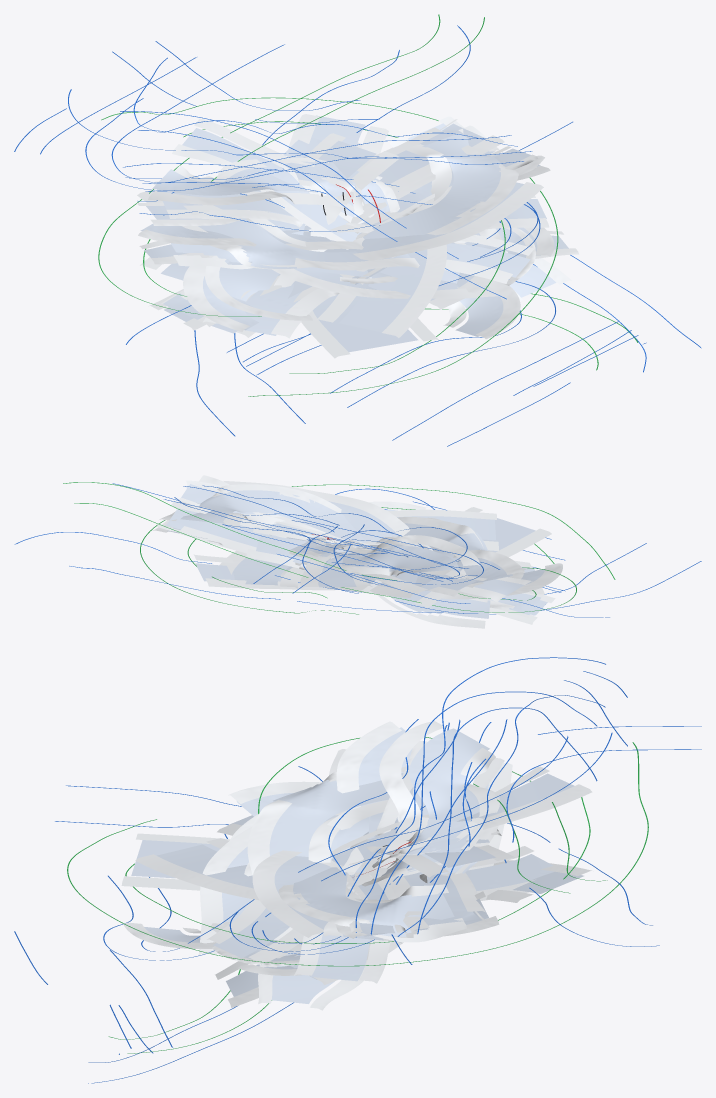
The model's file is SV_Pistes.fbx.
3 views of the same model, one above another, from view 1: azimuth 30°, elevation 25°; view 2: azimuth 150°, elevation 25°; view 3: azimuth 270°, elevation 25° (orthographic). The views are drawn at different scales.
Parts seen in each view (by area): view 1: SV_RIB_G1_00_PisteGroomed, SV_RIB_MAIN_00_PisteGroomed, SV_RIB_MAIN_01_PisteGroomed, SV_RIB_MAIN_01_Powder, SV_RIB_MAIN_00_Powder, SV_RIB_G1_01_Powder, SV_RIB_G2_01_PisteGroomed, SV_RIB_MAIN_12_PisteGroomed, SV_RIB_G1_00_Powder, SV_RIB_MAIN_12_Powder, SV_RIB_MAIN_14_PisteGroomed, SV_RIB_G2_02_Powder (+32 smaller); view 2: SV_RIB_G1_00_PisteGroomed, SV_RIB_G2_02_PisteGroomed, SV_RIB_G2_02_Powder, SV_RIB_MAIN_12_PisteGroomed, SV_RIB_G2_01_PisteGroomed, SV_RIB_MAIN_12_Powder, SV_RIB_G1_00_Powder, SV_RIB_MAIN_14_Powder, SV_RIB_G2_01_Powder, SV_RIB_MAIN_00_PisteGroomed, SV_RIB_MAIN_14_PisteGroomed, SV_RIB_MAIN_03_Powder (+36 smaller); view 3: SV_RIB_MAIN_00_PisteGroomed, SV_RIB_MAIN_12_PisteGroomed, SV_RIB_MAIN_12_Powder, SV_RIB_G1_00_PisteGroomed, SV_RIB_MAIN_00_Powder, SV_RIB_MAIN_04_Powder, SV_RIB_G2_01_PisteGroomed, SV_RIB_MAIN_01_Powder, SV_RIB_MAIN_04_PisteGroomed, SV_RIB_G1_01_Powder, SV_RIB_MAIN_01_PisteGroomed, SV_RIB_G1_00_Powder (+28 smaller).
Boxes of the visible parts, x1=… form: SV_RIB_G1_00_PisteGroomed: x1=212, y1=133, x2=501, y2=333; SV_RIB_MAIN_00_PisteGroomed: x1=198, y1=218, x2=530, y2=277; SV_RIB_MAIN_01_PisteGroomed: x1=182, y1=128, x2=503, y2=336; SV_RIB_MAIN_01_Powder: x1=172, y1=118, x2=520, y2=339; SV_RIB_MAIN_00_Powder: x1=137, y1=176, x2=535, y2=283; SV_RIB_G1_01_Powder: x1=272, y1=133, x2=500, y2=298; SV_RIB_G2_01_PisteGroomed: x1=283, y1=137, x2=427, y2=332; SV_RIB_MAIN_12_PisteGroomed: x1=152, y1=167, x2=556, y2=297; SV_RIB_G1_00_Powder: x1=236, y1=125, x2=518, y2=337; SV_RIB_MAIN_12_Powder: x1=148, y1=159, x2=571, y2=301; SV_RIB_MAIN_14_PisteGroomed: x1=311, y1=115, x2=418, y2=352; SV_RIB_G2_02_Powder: x1=140, y1=182, x2=543, y2=269; SV_RIB_G1_00_PisteGroomed: x1=180, y1=490, x2=366, y2=542; SV_RIB_G2_02_PisteGroomed: x1=328, y1=501, x2=490, y2=618; SV_RIB_G2_02_Powder: x1=223, y1=481, x2=487, y2=628; SV_RIB_MAIN_12_PisteGroomed: x1=325, y1=546, x2=459, y2=572; SV_RIB_G2_01_PisteGroomed: x1=233, y1=516, x2=495, y2=585; SV_RIB_MAIN_12_Powder: x1=295, y1=535, x2=480, y2=576; SV_RIB_G1_00_Powder: x1=159, y1=484, x2=343, y2=543; SV_RIB_MAIN_14_Powder: x1=193, y1=507, x2=551, y2=590; SV_RIB_G2_01_Powder: x1=219, y1=509, x2=498, y2=588; SV_RIB_MAIN_00_PisteGroomed: x1=389, y1=523, x2=487, y2=602; SV_RIB_MAIN_14_PisteGroomed: x1=195, y1=518, x2=535, y2=581; SV_RIB_MAIN_03_Powder: x1=157, y1=502, x2=562, y2=599; SV_RIB_MAIN_00_PisteGroomed: x1=213, y1=773, x2=413, y2=957; SV_RIB_MAIN_12_PisteGroomed: x1=226, y1=728, x2=489, y2=996; SV_RIB_MAIN_12_Powder: x1=215, y1=721, x2=500, y2=1007; SV_RIB_G1_00_PisteGroomed: x1=293, y1=867, x2=454, y2=936; SV_RIB_MAIN_00_Powder: x1=207, y1=766, x2=406, y2=964; SV_RIB_MAIN_04_Powder: x1=258, y1=721, x2=401, y2=1010; SV_RIB_G2_01_PisteGroomed: x1=157, y1=844, x2=554, y2=891; SV_RIB_MAIN_01_Powder: x1=123, y1=766, x2=592, y2=949; SV_RIB_MAIN_04_PisteGroomed: x1=271, y1=727, x2=412, y2=1003; SV_RIB_G1_01_Powder: x1=198, y1=813, x2=516, y2=954; SV_RIB_MAIN_01_PisteGroomed: x1=144, y1=773, x2=574, y2=942; SV_RIB_G1_00_Powder: x1=278, y1=872, x2=466, y2=942.
Size of the model in its own units: 1563 by 656 by 1686.
